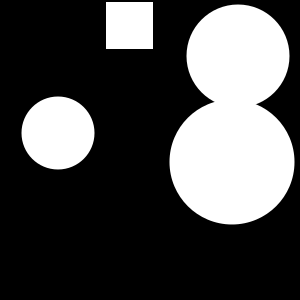circle: (106, 2, 153, 49)
rectangle: (169, 100, 294, 225), (186, 5, 290, 108), (21, 96, 94, 170)
